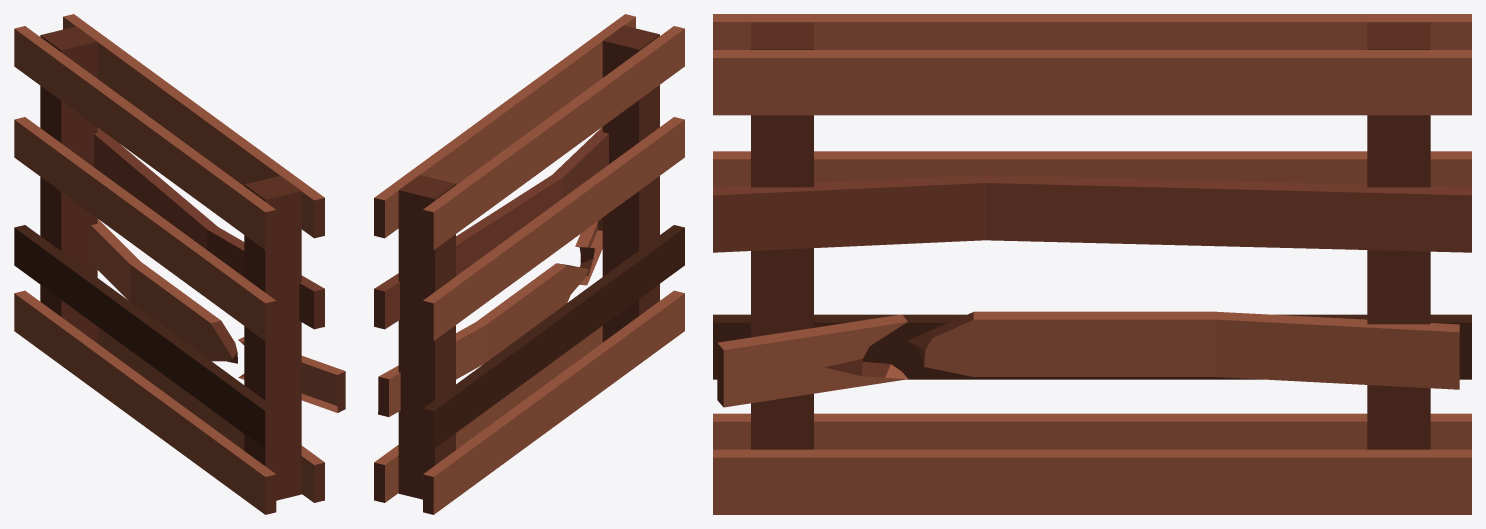
File: SM_Barriers_07.fbx
The picture shows the model from 3 angles, left to right: view 1: azimuth 30°, elevation 25°; view 2: azimuth 150°, elevation 25°; view 3: azimuth 270°, elevation 25°; orthographic projection. The views are drawn at different scales.
Visible parts, largest first — view 1: SM_Barriers_07; view 2: SM_Barriers_07; view 3: SM_Barriers_07.
Boxes of the visible parts, x1,y1,x2,y2 form: SM_Barriers_07: (14,14,345,514); SM_Barriers_07: (374,14,684,514); SM_Barriers_07: (713,14,1471,514).
Bounding box in the file's own units: 23.11 × 80 × 120.
